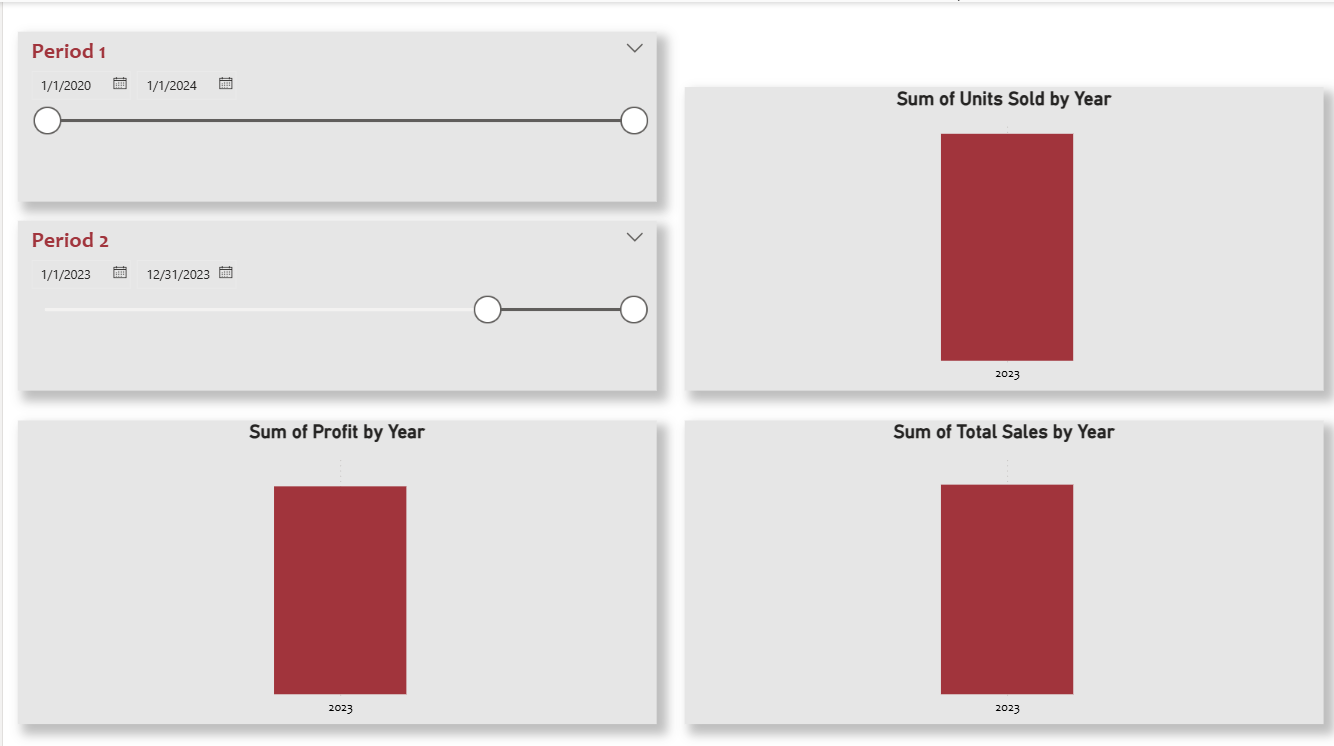

Layout of this report page (visuals, bound fields, positions):
{"tool":"powerbi","page":{"name":"Period Compare","canvas":[1280,720],"ordinal":2},"visuals":[{"type":"columnChart","fields":{"Category":["Fact Table.Date (dd/mm/yyyy).Variation.Date Hierarchy.Year","Fact Table.Date (dd/mm/yyyy).Variation.Date Hierarchy.Quarter","Fact Table.Date (dd/mm/yyyy).Variation.Date Hierarchy.Month","Fact Table.Date (dd/mm/yyyy).Variation.Date Hierarchy.Day"],"Y":["Sum(Fact Table.Total Sales )"]},"box":[653.8,401.3,612.3,291.3],"z":0},{"type":"columnChart","fields":{"Category":["Fact Table.Date (dd/mm/yyyy).Variation.Date Hierarchy.Year","Fact Table.Date (dd/mm/yyyy).Variation.Date Hierarchy.Quarter","Fact Table.Date (dd/mm/yyyy).Variation.Date Hierarchy.Month","Fact Table.Date (dd/mm/yyyy).Variation.Date Hierarchy.Day"],"Y":["Sum(Fact Table.Profit)"]},"box":[14.2,401.3,612.3,291.3],"z":1000},{"type":"columnChart","fields":{"Category":["Fact Table.Date (dd/mm/yyyy).Variation.Date Hierarchy.Year","Fact Table.Date (dd/mm/yyyy).Variation.Date Hierarchy.Quarter","Fact Table.Date (dd/mm/yyyy).Variation.Date Hierarchy.Month","Fact Table.Date (dd/mm/yyyy).Variation.Date Hierarchy.Day"],"Y":["Sum(Fact Table.Units Sold)"]},"box":[653.8,81.6,612.3,291.3],"z":2000},{"type":"slicer","fields":{"Values":["Fact Table.Date (dd/mm/yyyy)"]},"box":[14.2,28.5,612.3,163.1],"z":3000},{"type":"slicer","fields":{"Values":["Fact Table.Date (dd/mm/yyyy)"]},"box":[14.2,209.7,612.3,163.1],"z":4000}]}

Visuals, with their boxes in screenshot pixels (x1, y1, x2, y2), scaled from the page's 1280x720 canvas onto the 1334x746 screenshot:
columnChart - Fact Table.Date (dd/mm/yyyy).Variation.Date Hierarchy.Year x Fact Table.Date (dd/mm/yyyy).Variation.Date Hierarchy.Quarter: region(681, 416, 1320, 718)
columnChart - Fact Table.Date (dd/mm/yyyy).Variation.Date Hierarchy.Year x Fact Table.Date (dd/mm/yyyy).Variation.Date Hierarchy.Quarter: region(15, 416, 653, 718)
columnChart - Fact Table.Date (dd/mm/yyyy).Variation.Date Hierarchy.Year x Fact Table.Date (dd/mm/yyyy).Variation.Date Hierarchy.Quarter: region(681, 85, 1320, 386)
slicer - Fact Table.Date (dd/mm/yyyy): region(15, 30, 653, 199)
slicer - Fact Table.Date (dd/mm/yyyy): region(15, 217, 653, 386)
